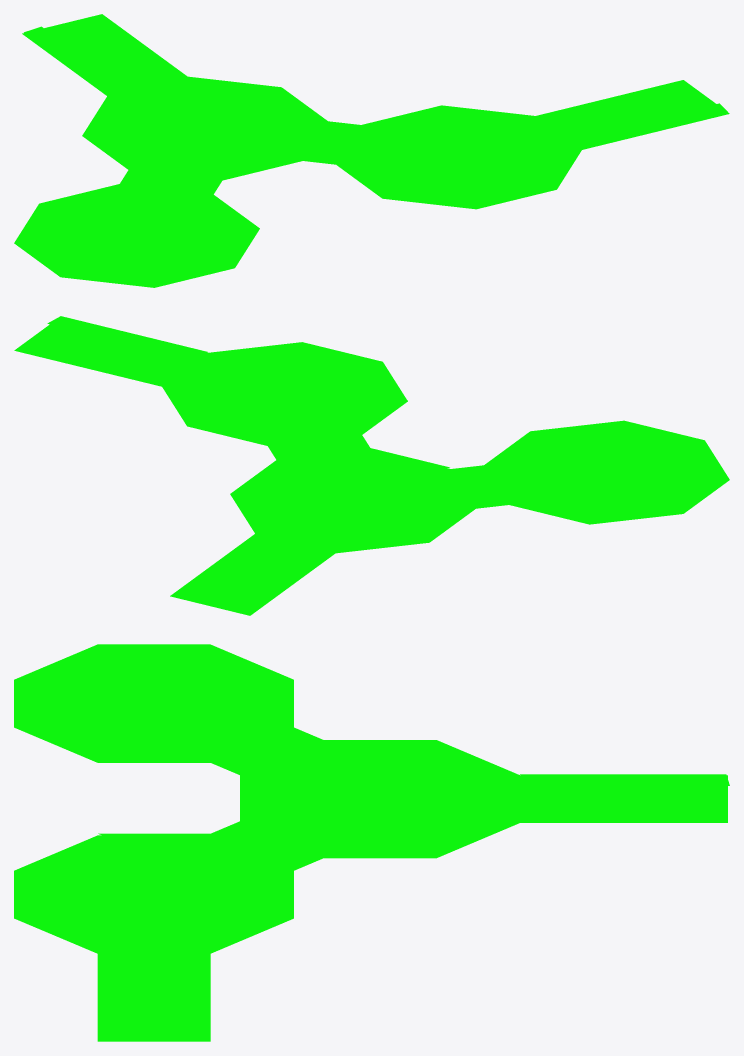
Rendered from s07a_lb3-floor.glb.
3 renders of one model, top to bottom at view 1: azimuth 30°, elevation 25°; view 2: azimuth 150°, elevation 25°; view 3: azimuth 270°, elevation 25°, orthographic. The views are drawn at different scales.
Parts seen in each view (by area): view 1: collision_floor-colonly; view 2: collision_floor-colonly; view 3: collision_floor-colonly.
Boxes of the visible parts, box(x1,y1,x2,y2) form: collision_floor-colonly: box(14, 14, 729, 287); collision_floor-colonly: box(14, 316, 729, 615); collision_floor-colonly: box(14, 644, 729, 1041).
Bounding box in the file's own units: 50.02 × 0.0996 × 38.03.
